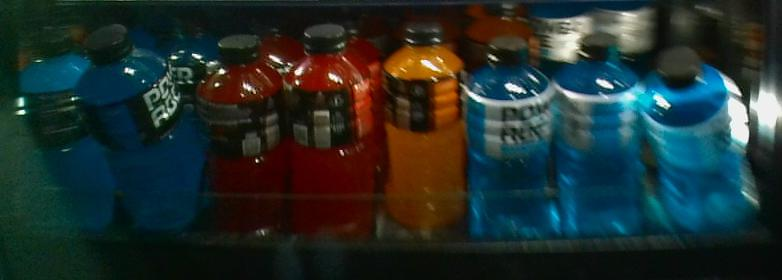bottle: (87, 21, 194, 232), (646, 38, 752, 229), (466, 34, 556, 237), (289, 19, 373, 234), (197, 29, 283, 237), (376, 22, 463, 227), (558, 31, 644, 234), (22, 29, 83, 233)
